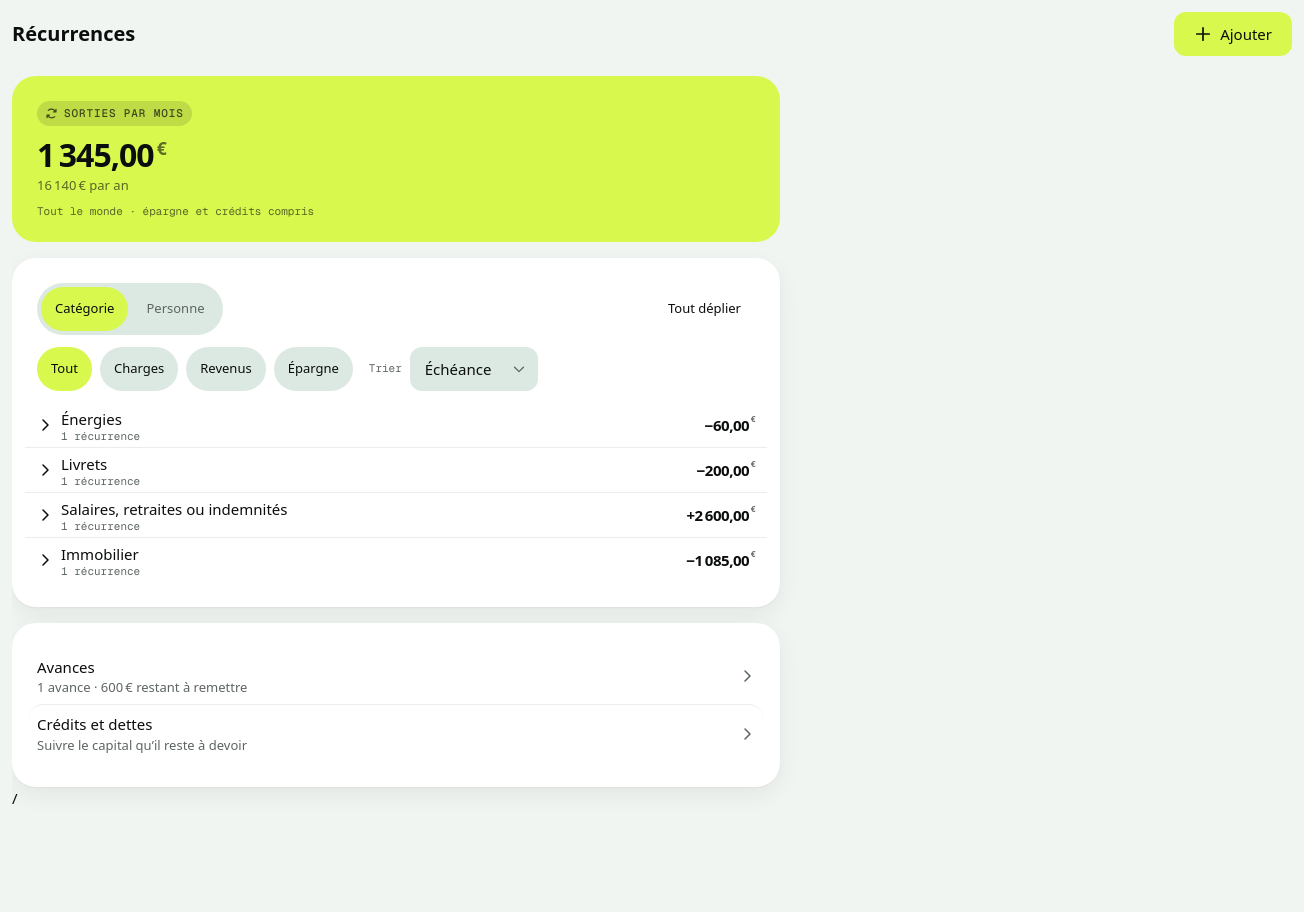
Scenario: RecurrencesPage › les deux suivis du bas › résument les avances et mènent à leur écran
Step 1. Click the link "Avances 1 avance · 600 € restant à remettre" → (66, 667), box [29, 648, 763, 704]
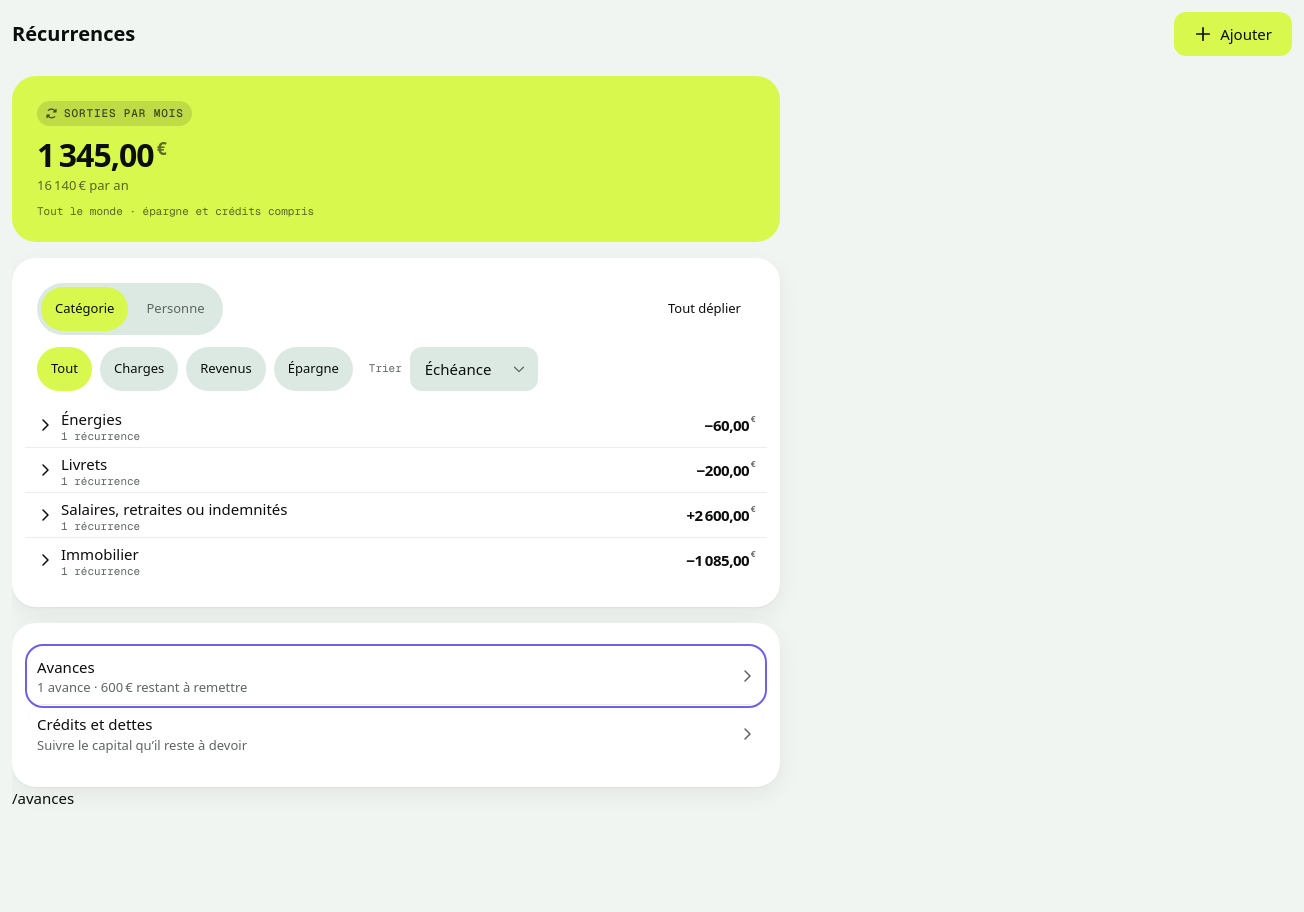
Result: the text with test id "url" reads "/avances" at [12, 788, 74, 808]
